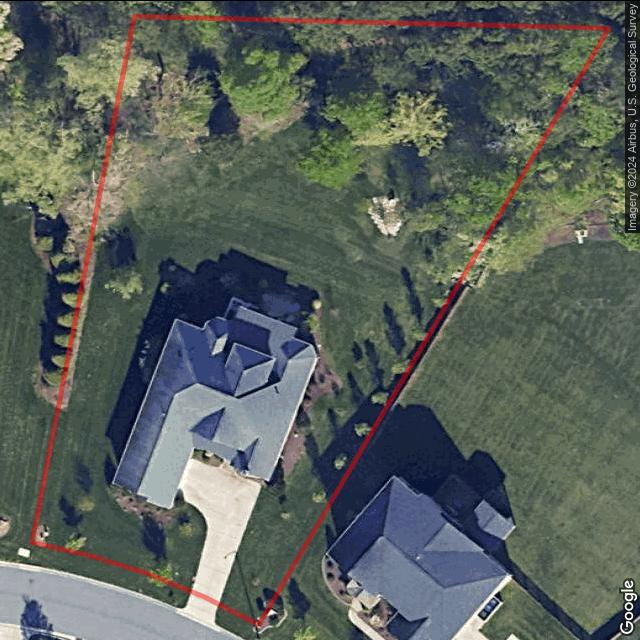Driveway: (177, 458, 266, 604)
Extra-Driveway: (175, 589, 218, 623)
Extra-Lawn: (29, 541, 194, 607), (214, 603, 258, 639)
House: (112, 304, 319, 509)
Lawn: (32, 14, 609, 627)
Other: (92, 12, 610, 285), (140, 260, 343, 480), (107, 478, 189, 542), (371, 196, 402, 236), (190, 445, 225, 466)
